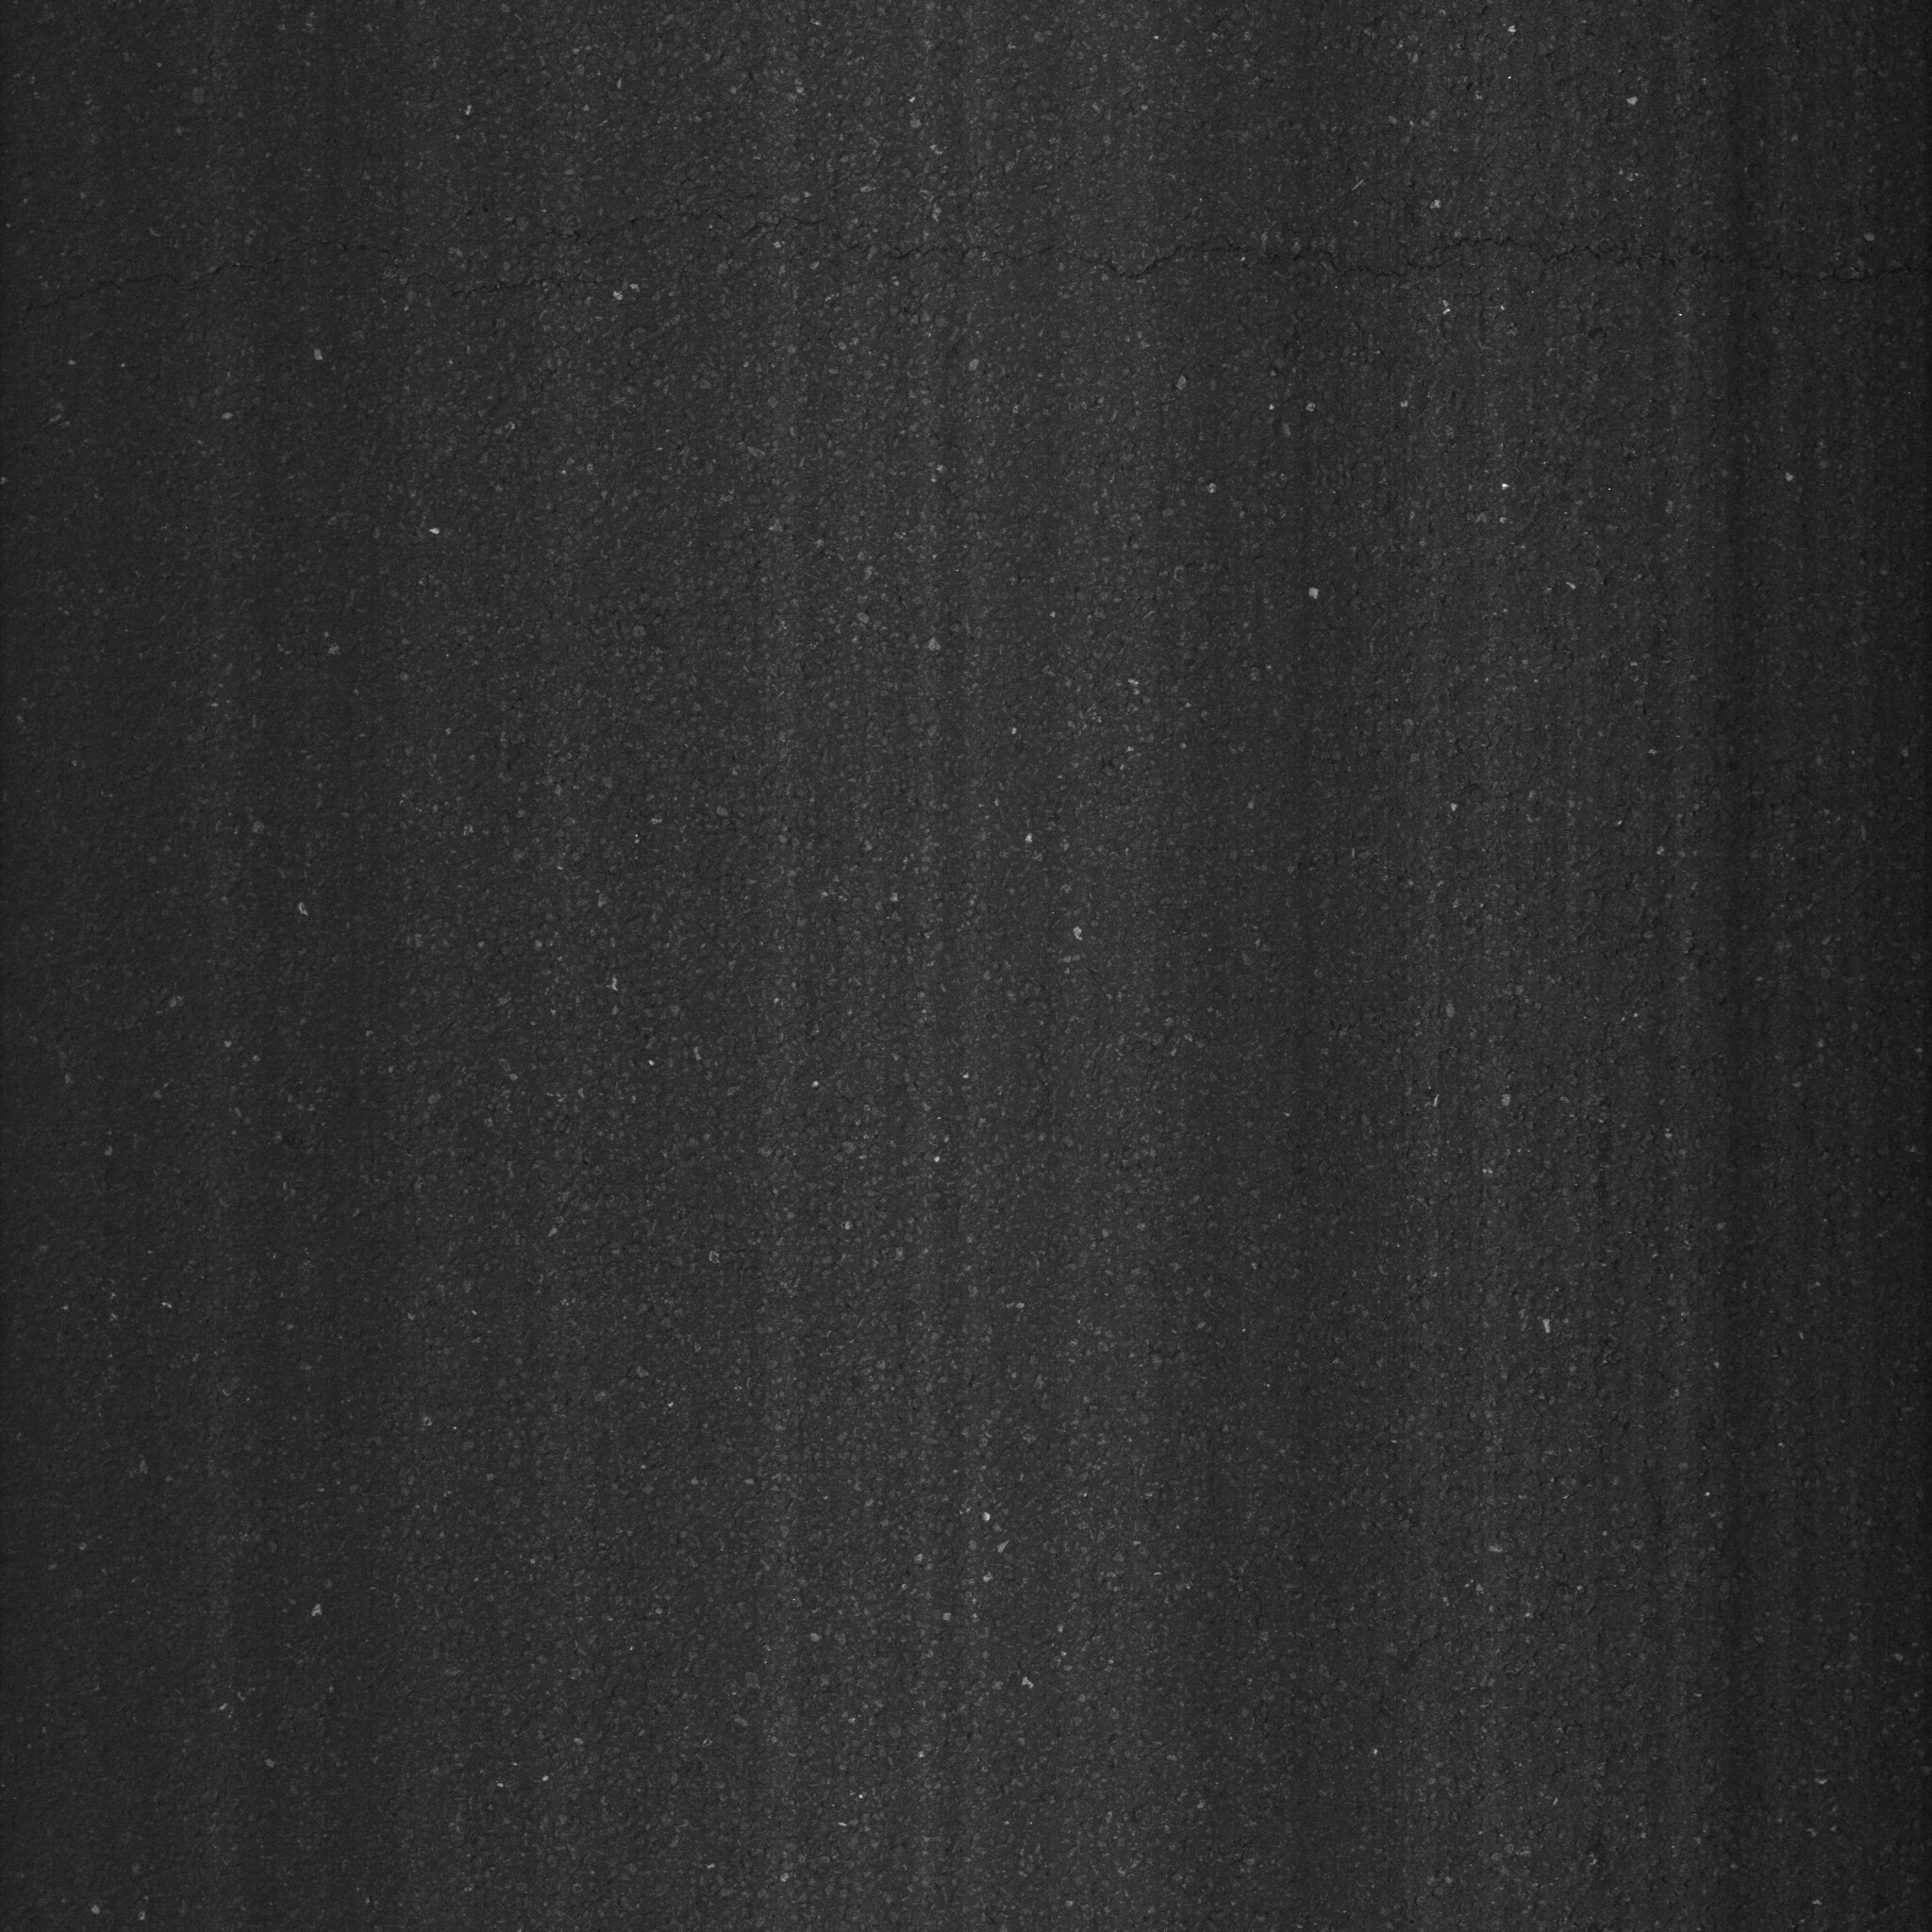transeverse: (14, 172, 1920, 349)
